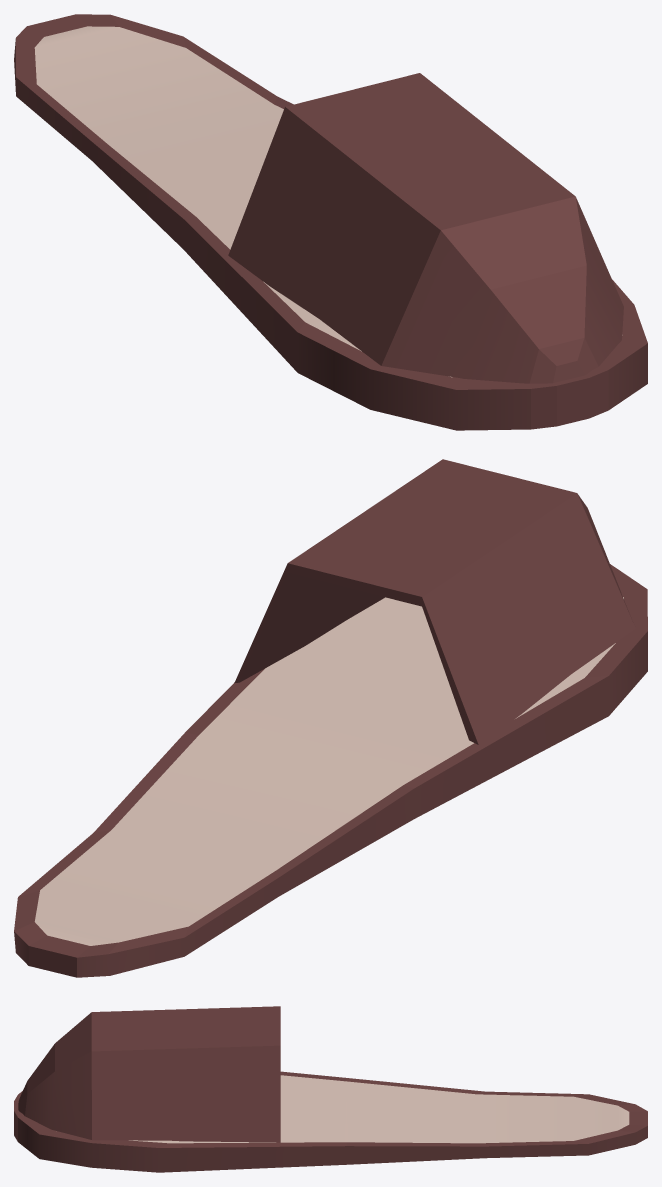
File: Slippers_Bedroom.fbx
3 views of the same model, one above another, from view 1: azimuth 30°, elevation 25°; view 2: azimuth 150°, elevation 25°; view 3: azimuth 270°, elevation 25° (orthographic). The views are drawn at different scales.
Parts seen in each view (by area): view 1: Slippers; view 2: Slippers; view 3: Slippers.
Boxes of the visible parts, x1=… form: Slippers: x1=14, y1=14, x2=647, y2=430; Slippers: x1=14, y1=459, x2=647, y2=977; Slippers: x1=14, y1=1006, x2=647, y2=1172.
Size of the model in its own units: 20.69 by 11.47 by 62.87.
